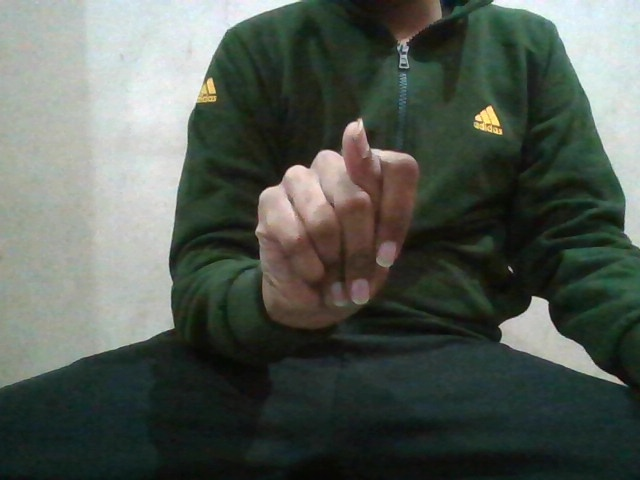T: (249, 111, 426, 327)
